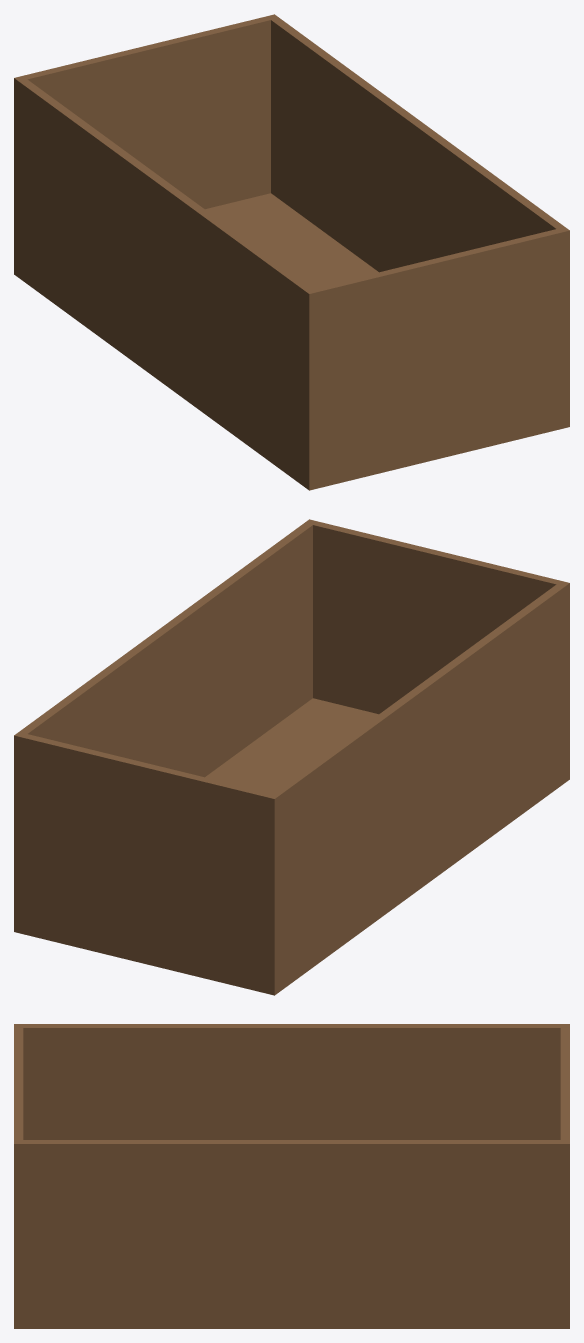
The model's file is CajaFP.obj.
3 renders of one model, top to bottom at view 1: azimuth 30°, elevation 25°; view 2: azimuth 150°, elevation 25°; view 3: azimuth 270°, elevation 25°, orthographic. The views are drawn at different scales.
Visible parts, largest first — view 1: Torus001; view 2: Torus001; view 3: Torus001.
Part boxes in pixels (bbox=[...]): Torus001: bbox=[14, 14, 569, 490]; Torus001: bbox=[14, 519, 569, 995]; Torus001: bbox=[14, 1024, 569, 1328].
Bounding box in the file's own units: 46.44 × 33.45 × 91.13.
